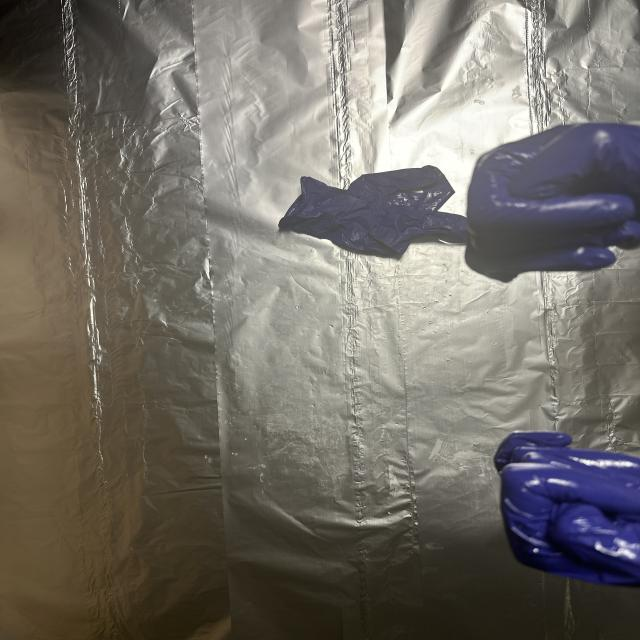gloves_contaminated: (465, 123, 640, 282), (494, 433, 640, 586)
